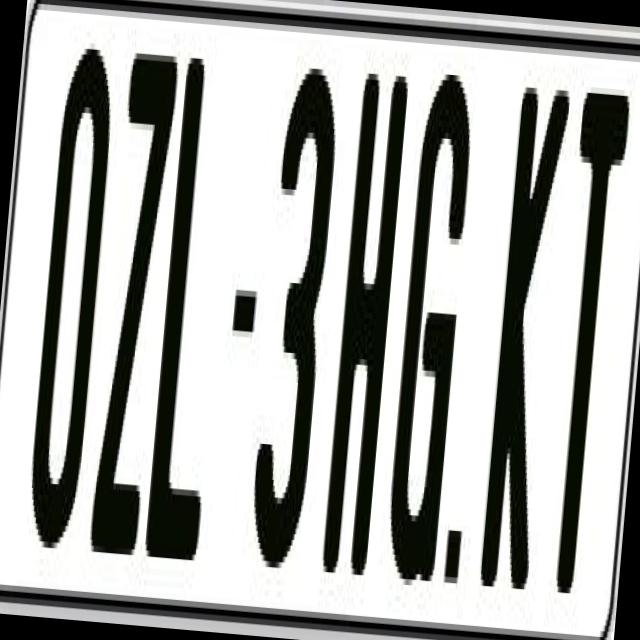0: (20, 41, 121, 578)
3: (242, 60, 348, 599)
G: (383, 55, 478, 581)
H: (315, 72, 408, 592)
K: (478, 80, 578, 590)
L: (142, 39, 247, 578)
T: (539, 74, 634, 583)
Z: (86, 52, 180, 555)
